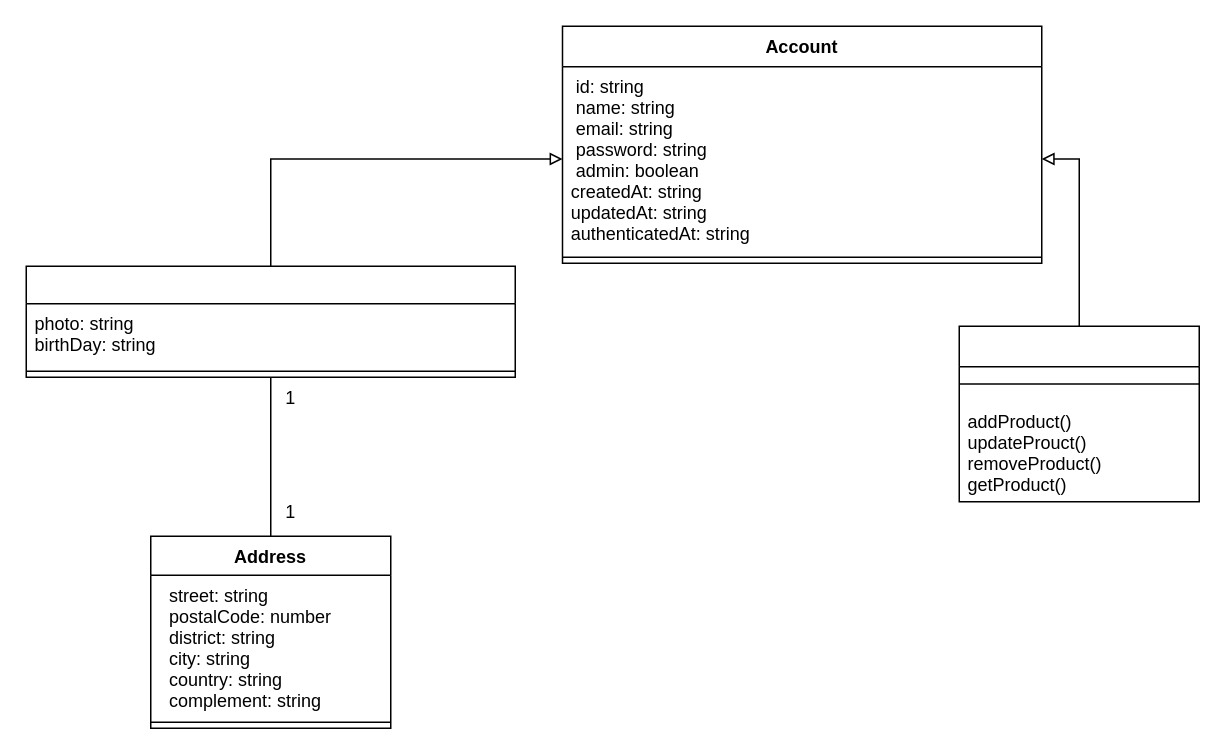
Image size: 1226x755. Some labels were removed from this diagram. The shapes that lost their labels are listed below. From the top down, each one's box as (x1, y1, x2, y2) in pixels, then its label:
(25, 265, 515, 377): Client
(958, 325, 1199, 502): Admin
